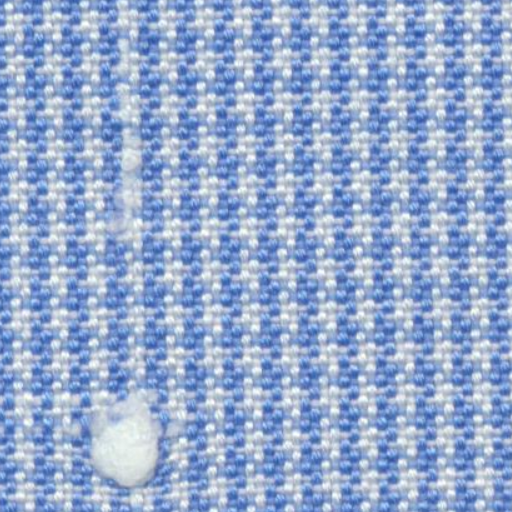MianQiu: (52, 380, 200, 499)
